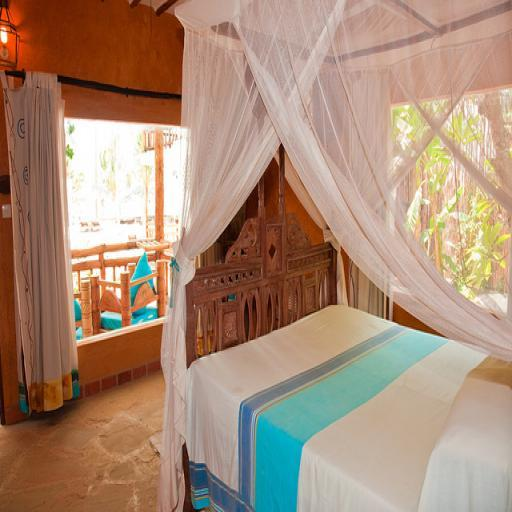bed: (153, 140, 512, 509)
